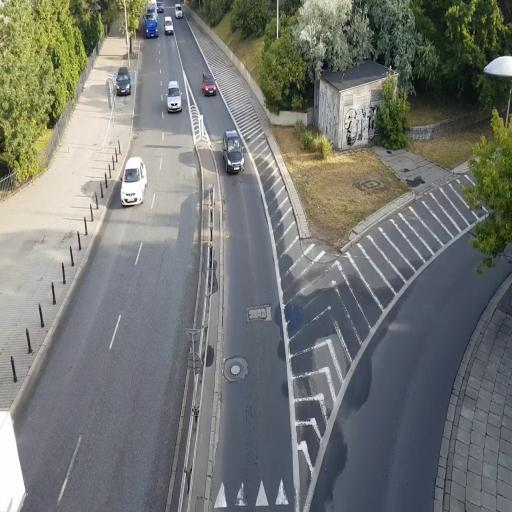vehicle: (120, 157, 146, 207), (223, 130, 244, 173), (166, 81, 182, 113), (114, 68, 132, 96), (201, 74, 217, 96), (146, 16, 158, 37), (164, 16, 174, 35)
